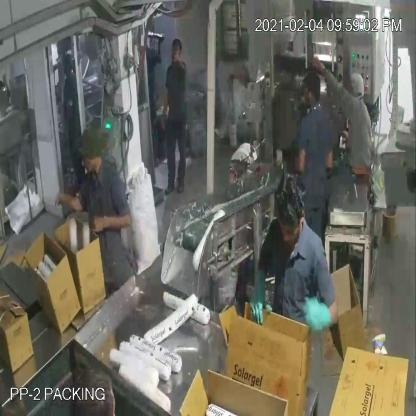glove: (251, 254, 280, 338), (297, 289, 333, 338)
no_glove: (90, 203, 144, 241), (48, 181, 94, 222), (158, 81, 174, 131)
